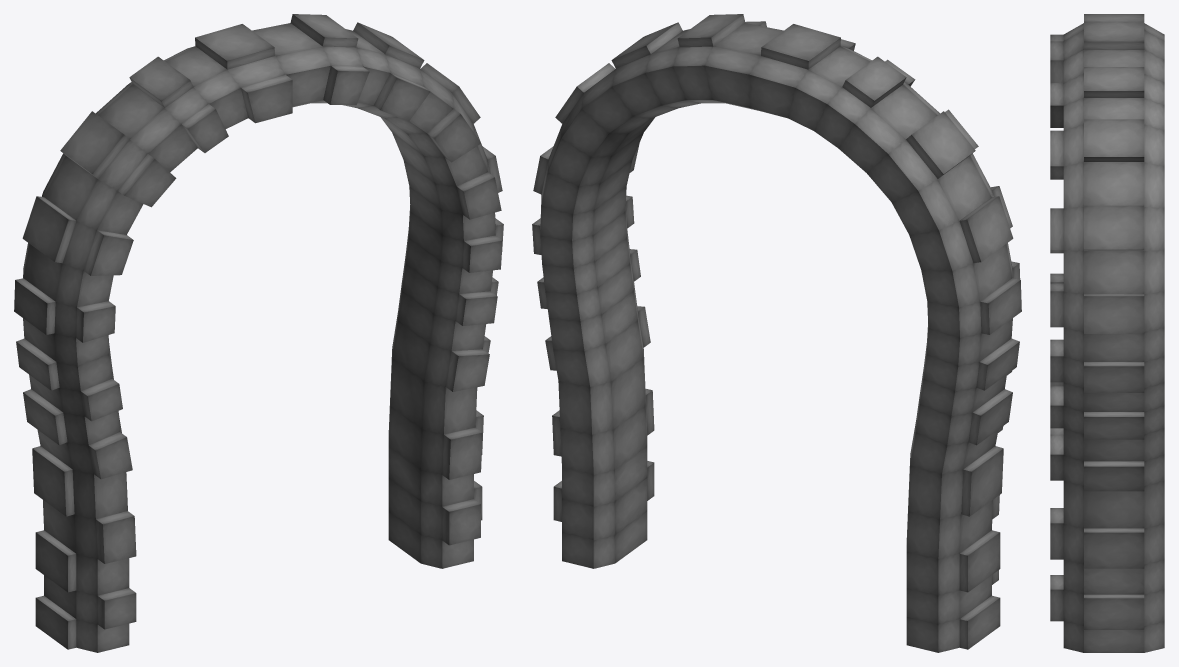
File: ms_genericteleport (1).fbx
3 views of the same model, side by side, from view 1: azimuth 30°, elevation 25°; view 2: azimuth 150°, elevation 25°; view 3: azimuth 270°, elevation 25° (orthographic). The views are drawn at different scales.
Visible parts, largest first — view 1: pCube4; view 2: pCube4; view 3: pCube4.
Part boxes in pixels (bbox=[...]): pCube4: bbox=[14, 14, 503, 652]; pCube4: bbox=[532, 14, 1021, 652]; pCube4: bbox=[1050, 14, 1164, 652].
Bounding box in the file's own units: 32.08 × 36.98 × 7.36.
